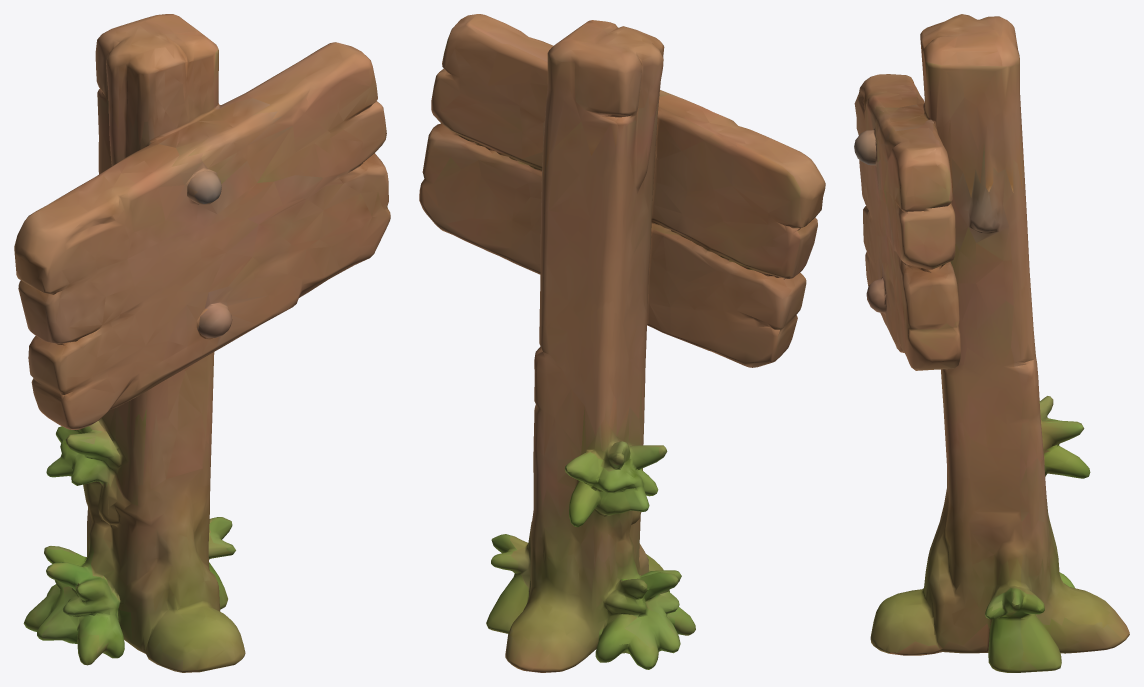
Rendered from cartel.glb.
3 views of the same model, side by side, from view 1: azimuth 30°, elevation 25°; view 2: azimuth 150°, elevation 25°; view 3: azimuth 270°, elevation 25° (orthographic). The views are drawn at different scales.
Visible parts, largest first — view 1: cartel_malla; view 2: cartel_malla; view 3: cartel_malla.
Boxes of the visible parts, <box> form: cartel_malla: <box>14,14,390,672</box>; cartel_malla: <box>419,14,825,672</box>; cartel_malla: <box>854,14,1129,672</box>.
Size of the model in its own units: 0.1422 by 0.2167 by 0.0889.
1 material, 1 textured.
